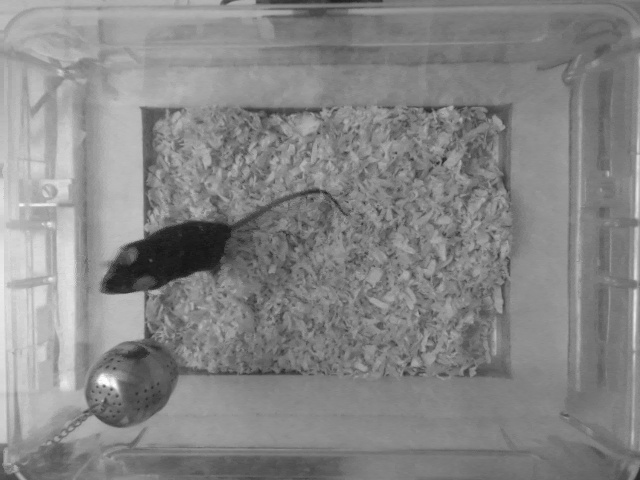mice: (92, 182, 363, 298)
